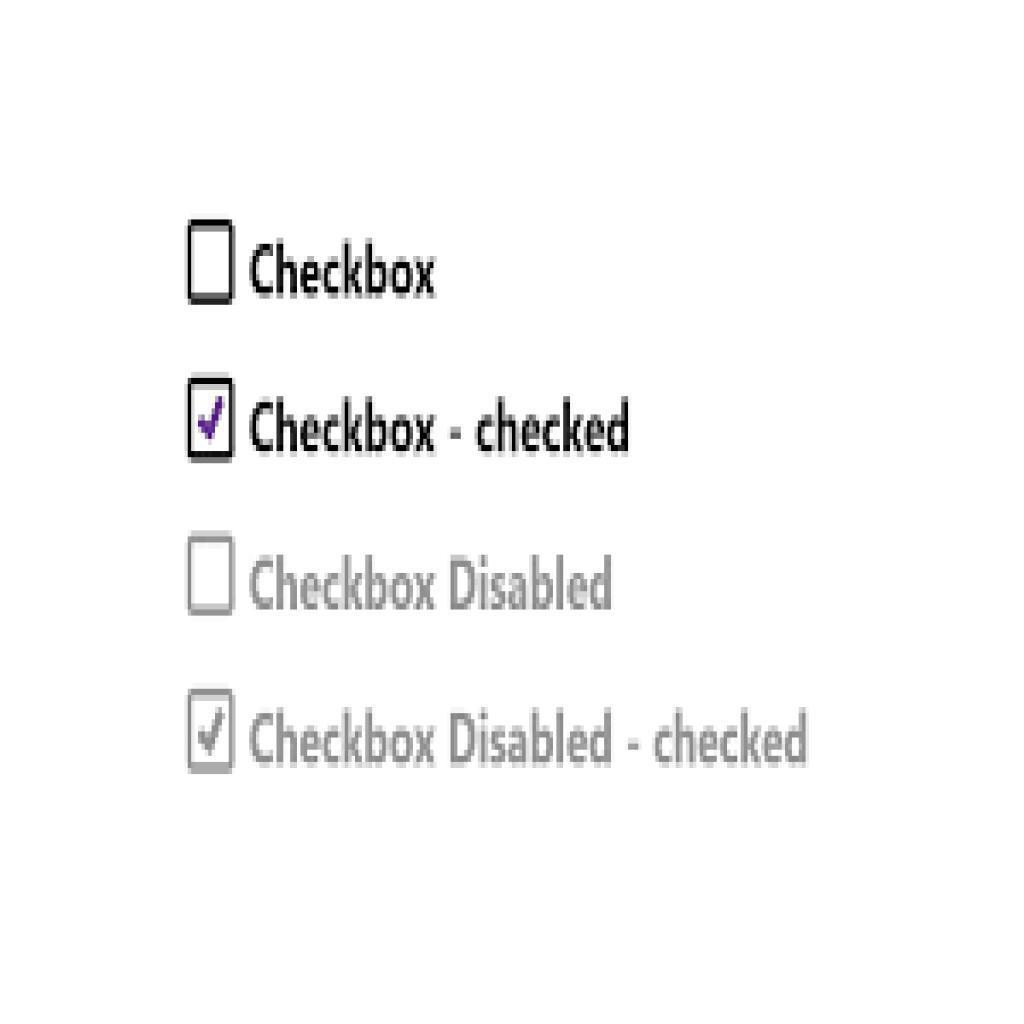checkbox: (190, 691, 236, 772), (191, 378, 234, 459), (192, 223, 231, 305), (190, 539, 232, 610)
